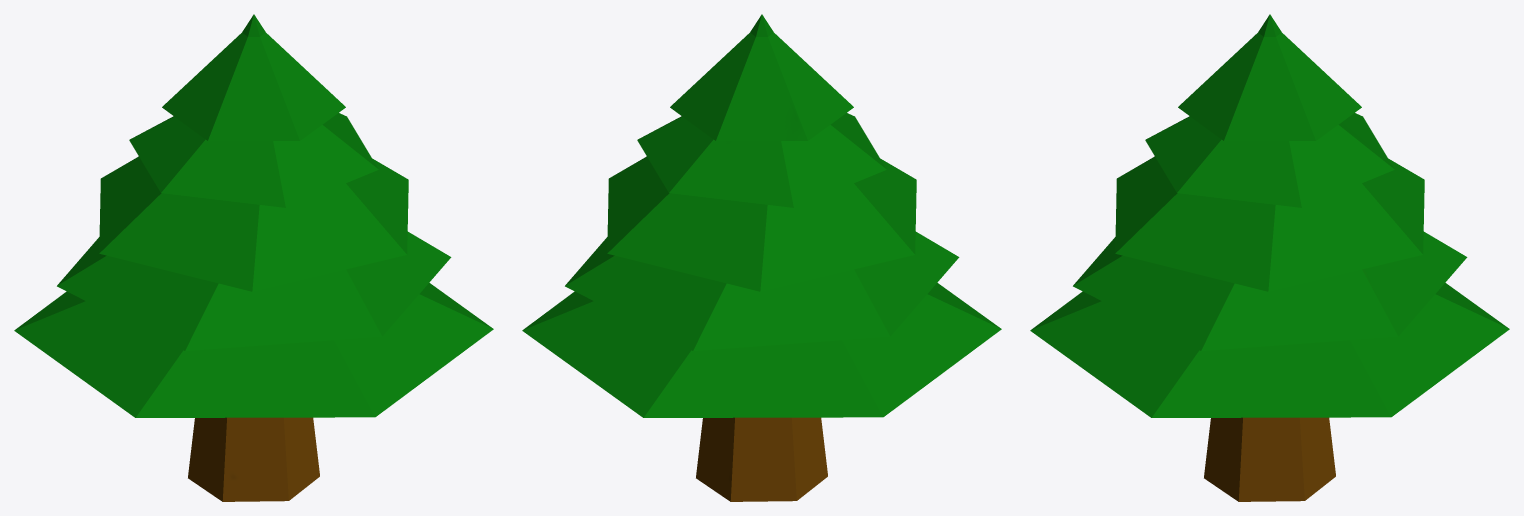
File: Tree.fbx
3 renders of one model, left to right at view 1: azimuth 30°, elevation 25°; view 2: azimuth 150°, elevation 25°; view 3: azimuth 270°, elevation 25°, orthographic.
Visible parts, largest first — view 1: Tree; view 2: Tree; view 3: Tree.
Boxes of the visible parts, left/top/right/bottom form: Tree: left=14, top=14, right=493, bottom=501; Tree: left=522, top=14, right=1001, bottom=501; Tree: left=1030, top=14, right=1509, bottom=501.
Size of the model in its own units: 403 by 493 by 463.
